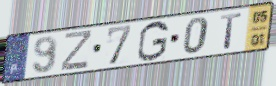0: (181, 15, 210, 56)
7: (105, 23, 134, 67)
9: (32, 35, 59, 75)
G: (136, 20, 171, 63)
T: (219, 11, 243, 50)
Z: (59, 28, 94, 72)
